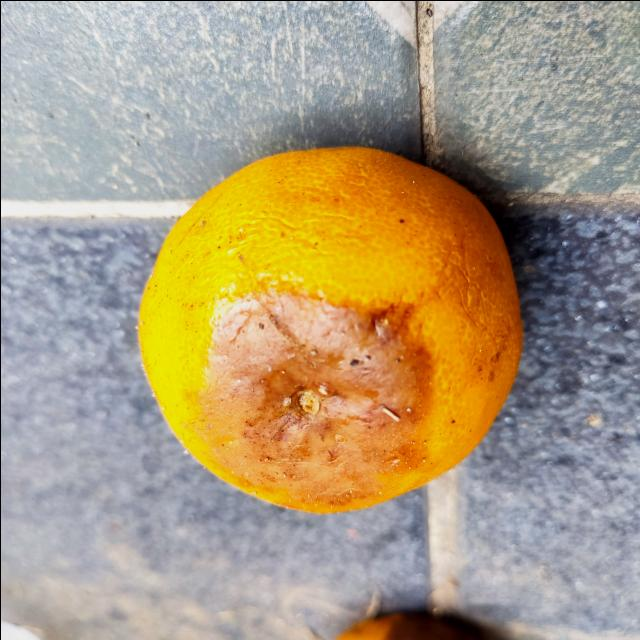orange: (136, 144, 522, 515)
